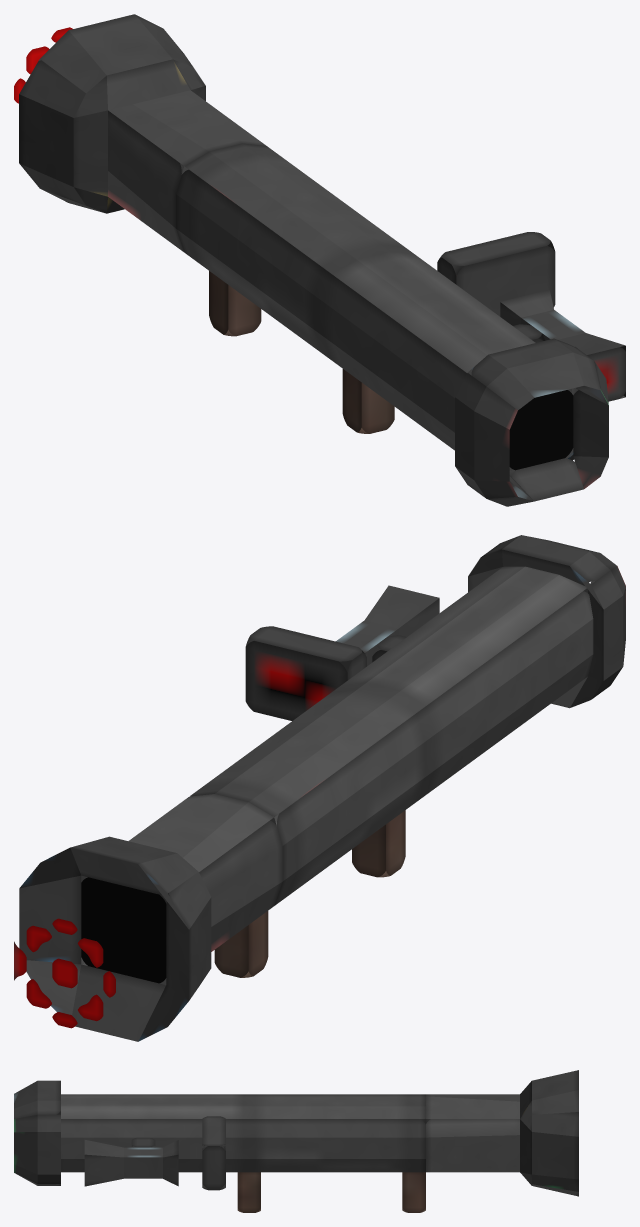
File: rocketlauncher.obj
3 renders of one model, top to bottom at view 1: azimuth 30°, elevation 25°; view 2: azimuth 150°, elevation 25°; view 3: azimuth 270°, elevation 25°, orthographic. The views are drawn at different scales.
Visible parts, largest first — view 1: cuboid, screen, scope; view 2: cuboid, screen, scope, scope_gui_reticle_ready, scope_gui_reticle_aim; view 3: cuboid, scope, screen.
Part boxes in pixels (x1=…): cuboid: x1=19, y1=14, x2=608, y2=506; screen: x1=437, y1=232, x2=555, y2=316; scope: x1=500, y1=290, x2=625, y2=401; cuboid: x1=19, y1=535, x2=625, y2=1041; screen: x1=245, y1=626, x2=366, y2=720; scope: x1=336, y1=585, x2=439, y2=665; scope_gui_reticle_ready: x1=26, y1=925, x2=103, y2=1021; scope_gui_reticle_aim: x1=14, y1=918, x2=115, y2=1028; cuboid: x1=14, y1=1070, x2=578, y2=1212; scope: x1=84, y1=1137, x2=178, y2=1186; screen: x1=202, y1=1116, x2=225, y2=1190.
Size of the model in its own units: 0.4375 by 0.375 by 1.62.
